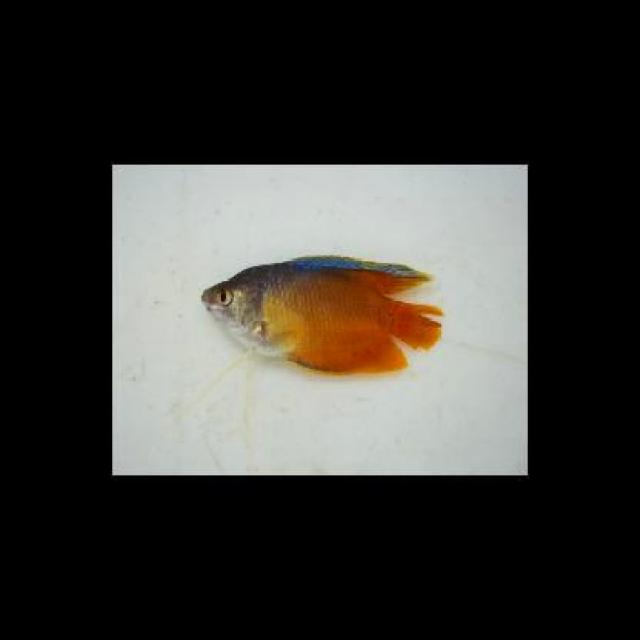Gourami: (194, 250, 448, 378)
